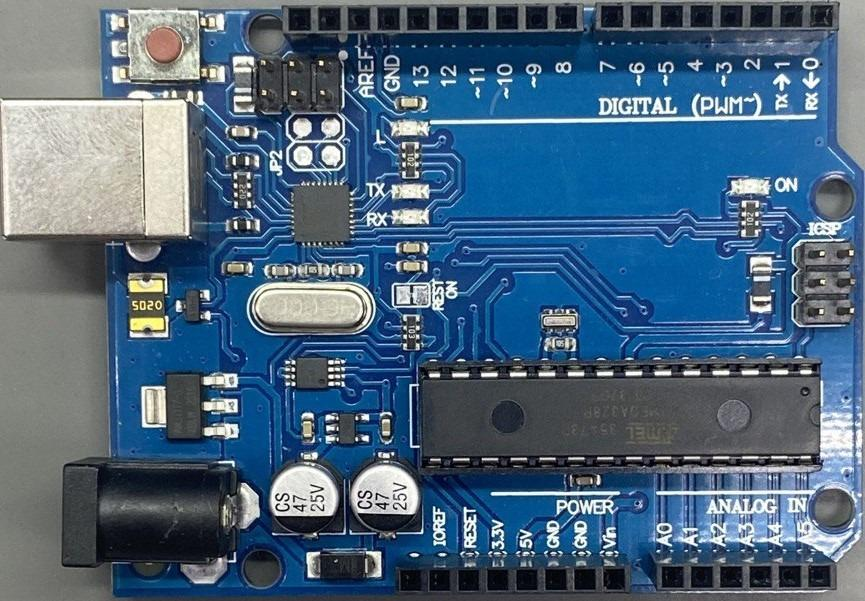ATmega328 chip: (420, 360, 823, 473)
Arduino board: (2, 1, 864, 600)
USB: (3, 97, 209, 246)
capacitor: (268, 458, 346, 535), (348, 459, 424, 535)
pins: (282, 3, 583, 51), (591, 1, 840, 45), (394, 552, 631, 596), (646, 549, 837, 591)
resistor: (739, 197, 762, 239), (401, 312, 423, 354), (399, 140, 421, 179), (232, 172, 255, 209)
spur: (589, 267, 600, 276), (478, 325, 482, 334), (368, 154, 372, 163)
